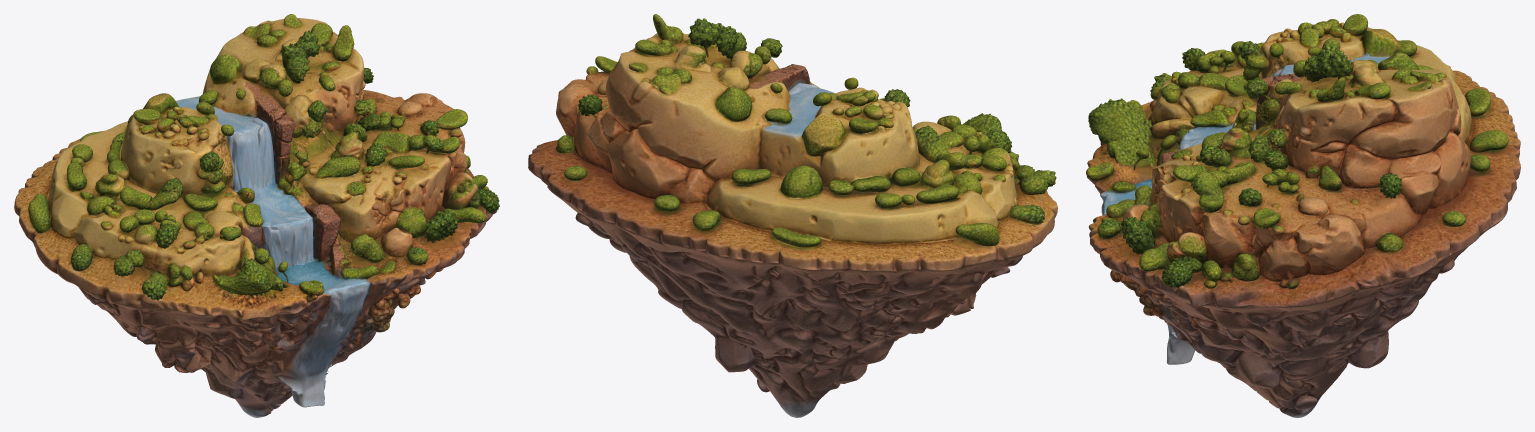
The model's file is 03-landscape-birds.glb.
3 renders of one model, left to right at view 1: azimuth 30°, elevation 25°; view 2: azimuth 150°, elevation 25°; view 3: azimuth 270°, elevation 25°, orthographic. The views are drawn at different scales.
Parts seen in each view (by area): view 1: tripo_node_1f77c117-7582-4d0f-91cd-1afc10127263; view 2: tripo_node_1f77c117-7582-4d0f-91cd-1afc10127263; view 3: tripo_node_1f77c117-7582-4d0f-91cd-1afc10127263.
Boxes of the visible parts, x1,y1,x2,y2 form: tripo_node_1f77c117-7582-4d0f-91cd-1afc10127263: [14, 14, 499, 417]; tripo_node_1f77c117-7582-4d0f-91cd-1afc10127263: [528, 14, 1057, 417]; tripo_node_1f77c117-7582-4d0f-91cd-1afc10127263: [1086, 14, 1520, 417].
Bounding box in the file's own units: 0.5222 × 0.4222 × 0.4125.
Materials: 1 (1 with a texture image).
